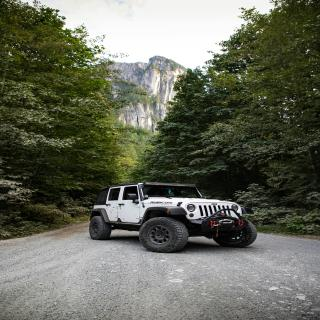Normal_vehicle: (91, 183, 258, 253)
